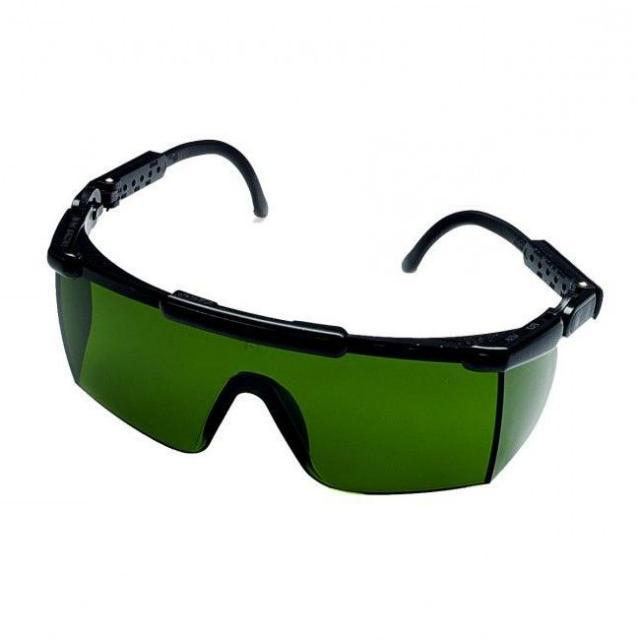Goggles: (43, 135, 615, 515)
